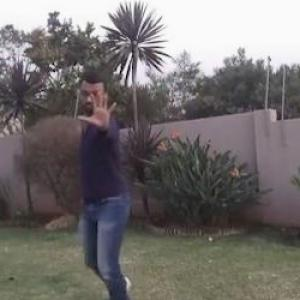follow_hand: (76, 84, 121, 134)
